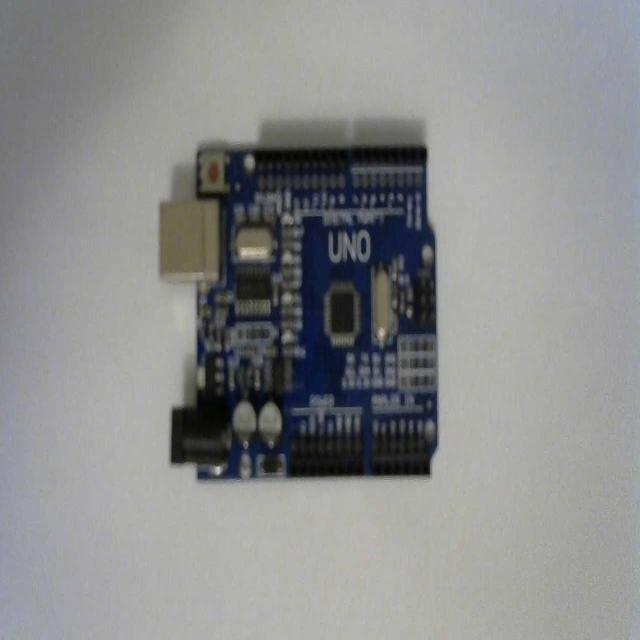arduino: (157, 139, 443, 481)
